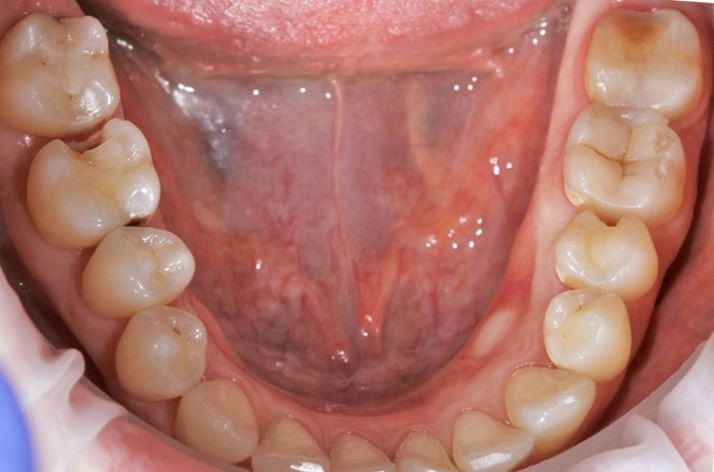LL1BC_healthy: (545, 298, 629, 365)
LL1M_decay: (569, 117, 683, 209)
LL2BC_decay: (557, 211, 668, 290)
LL2M_decay: (589, 8, 705, 111)
LLCI_healthy: (389, 430, 446, 472)
LLC_healthy: (518, 377, 592, 436)
LLLI_healthy: (457, 427, 518, 466)
LR1BC_decay: (111, 309, 209, 386)
LR1M_decay: (25, 119, 159, 247)
LR2BC_decay: (93, 223, 194, 304)
LR2M_decay: (6, 17, 117, 119)
LRCI_healthy: (316, 420, 380, 472)
LRC_healthy: (168, 370, 253, 449)
LRLI_healthy: (262, 417, 322, 472)
